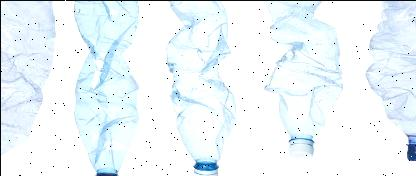Plastic Bottle: (64, 1, 150, 176), (160, 1, 240, 176), (259, 0, 345, 159), (362, 0, 416, 166)
